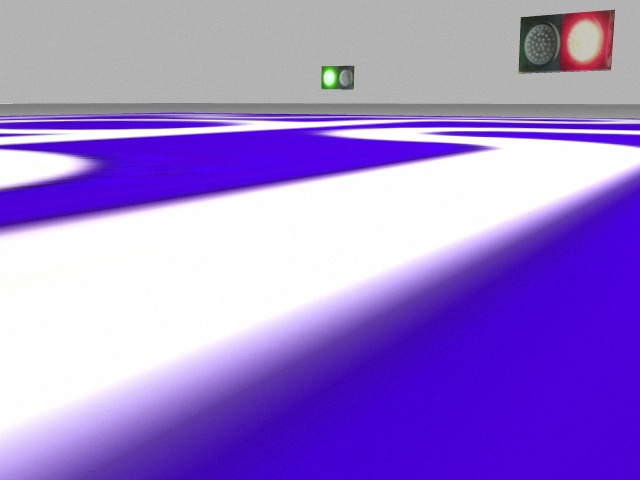red: (562, 14, 617, 69)
